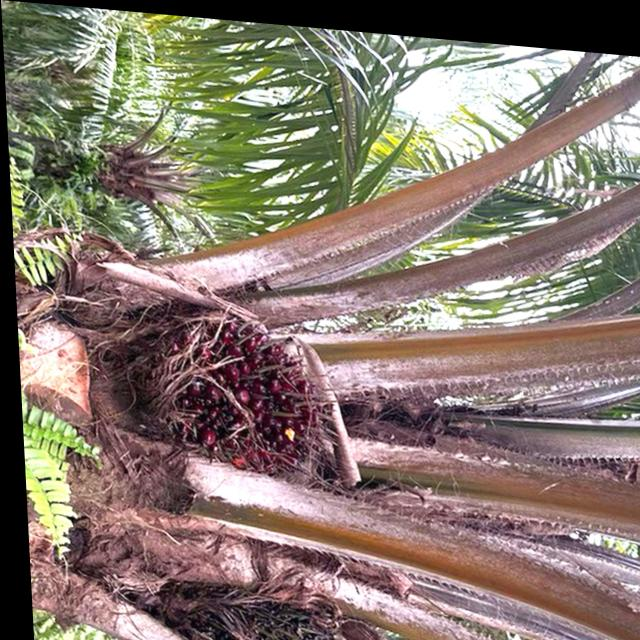ripe: (180, 314, 347, 487)
